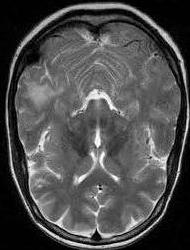Normal_Brain: (1, 3, 190, 250)
